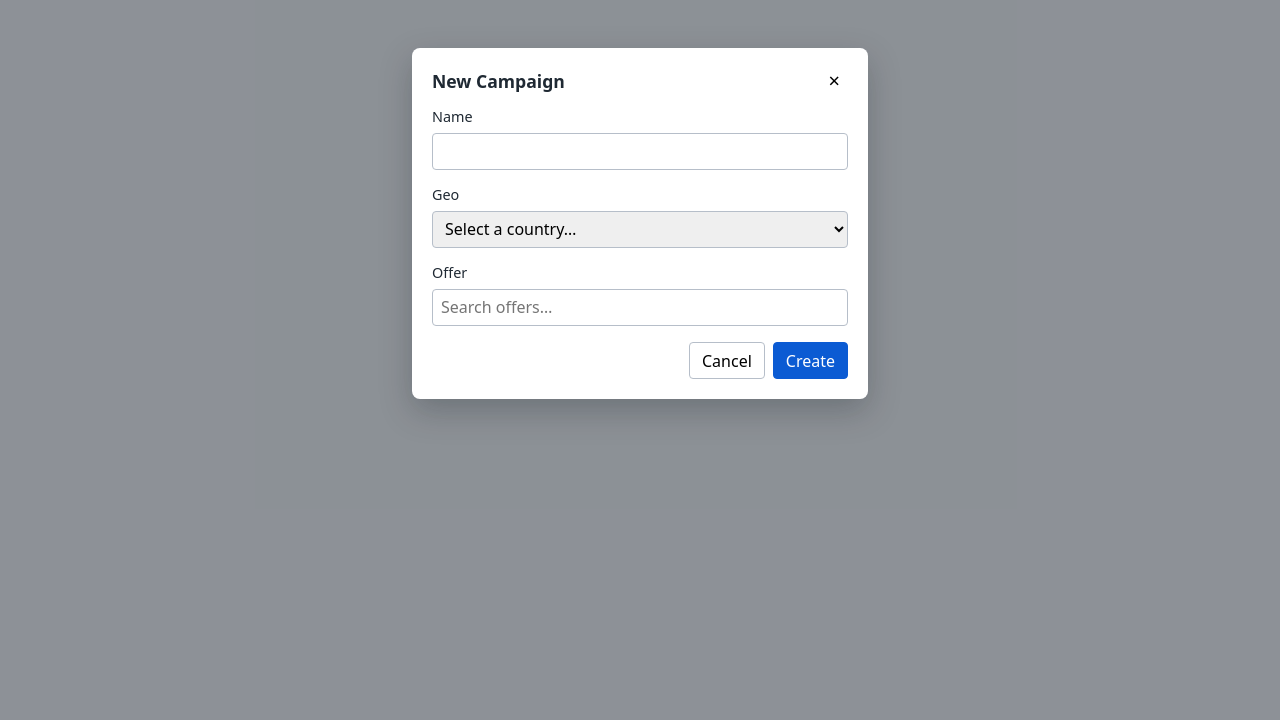
Test: NewCampaignDialog › validates all fields before submitting and creates nothing remotely
This screenshot has width=1280, height=720.
What coordinates should you click on to do the following:
click the button "Create"
I would click on:
 (810, 361)
Its box is top-left (773, 342), bottom-right (848, 379).
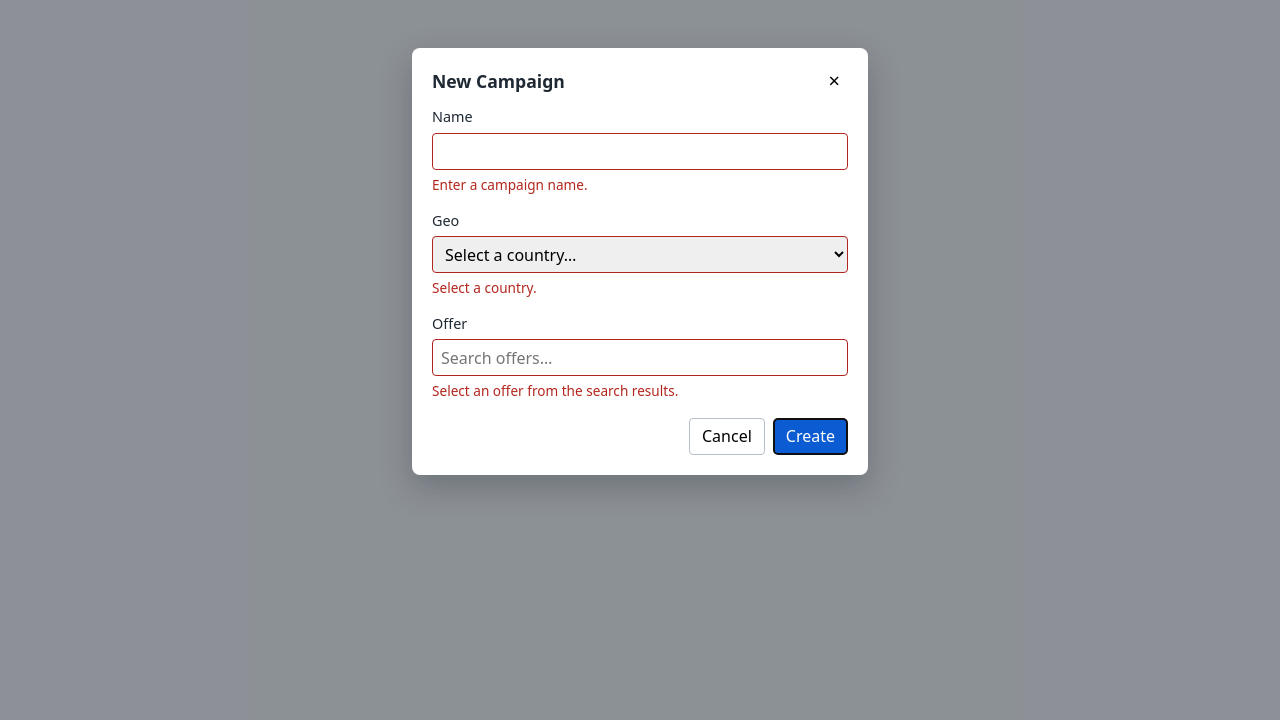
Now the text "Enter a campaign name." is shown, box top-left (432, 175), bottom-right (588, 194)
Now the text "Select a country." is shown, box top-left (432, 278), bottom-right (536, 297)
Now the text "Select an offer from the search results." is shown, box top-left (432, 381), bottom-right (678, 400)
